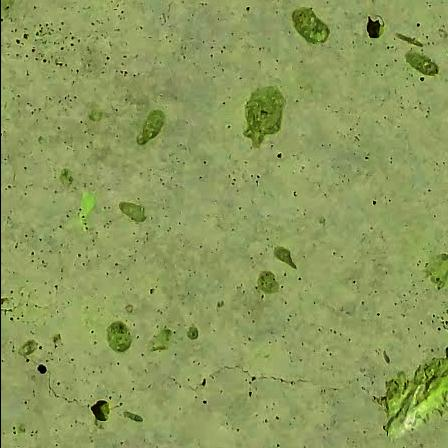crack: (12, 350, 317, 426)
spalling: (361, 341, 448, 444), (360, 17, 386, 41)
